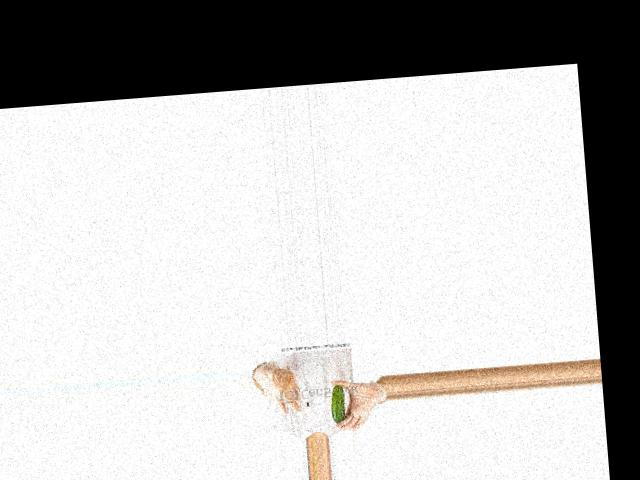cucumber: (330, 383, 347, 423)
